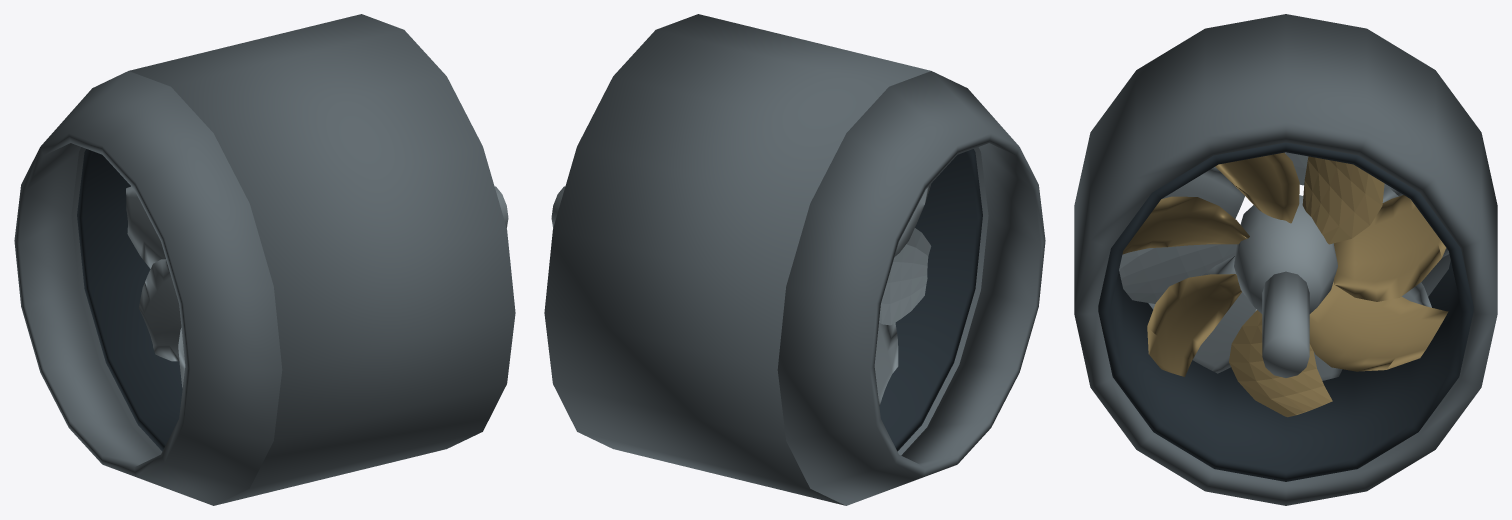
File: RU_PJ_Yasen_LOD2.fbx
3 views of the same model, side by side, from view 1: azimuth 30°, elevation 25°; view 2: azimuth 150°, elevation 25°; view 3: azimuth 270°, elevation 25° (orthographic). The views are drawn at different scales.
Visible parts, largest first — view 1: RU_PJ_Yasen_LOD2_Housing.001, RU_PJ_Yasen_LOD2_Nozzle.001, RU_PJ_Yasen_LOD2_Lining.001, RU_PJ_Yasen_LOD2_Stator_08.001, RU_PJ_Yasen_LOD2_Stator_00.001; view 2: RU_PJ_Yasen_LOD2_Housing.001, RU_PJ_Yasen_LOD2_Nozzle.001, RU_PJ_Yasen_LOD2_Lining.001, RU_PJ_Yasen_LOD2_Stator_05.001, RU_PJ_Yasen_LOD2_Stator_06.001; view 3: RU_PJ_Yasen_LOD2_Housing.001, RU_PJ_Yasen_LOD2_Lining.001, RU_PJ_Yasen_LOD2_Rotor_06.001, RU_PJ_Yasen_LOD2_Rotor_00.001, RU_PJ_Yasen_LOD2_Hub.001, RU_PJ_Yasen_LOD2_Rotor_04.001, RU_PJ_Yasen_LOD2_Rotor_01.001, RU_PJ_Yasen_LOD2_Rotor_05.001, RU_PJ_Yasen_LOD2_Shaft.001, RU_PJ_Yasen_LOD2_Rotor_03.001, RU_PJ_Yasen_LOD2_Stator_05.001, RU_PJ_Yasen_LOD2_Rotor_02.001 (+3 smaller).
Boxes of the visible parts, box(x1,y1,x2,y2) form: RU_PJ_Yasen_LOD2_Housing.001: box(71, 14, 515, 505); RU_PJ_Yasen_LOD2_Nozzle.001: box(14, 71, 282, 505); RU_PJ_Yasen_LOD2_Lining.001: box(77, 149, 182, 451); RU_PJ_Yasen_LOD2_Stator_08.001: box(139, 259, 181, 361); RU_PJ_Yasen_LOD2_Stator_00.001: box(126, 186, 165, 268); RU_PJ_Yasen_LOD2_Housing.001: box(544, 14, 988, 505); RU_PJ_Yasen_LOD2_Nozzle.001: box(777, 71, 1045, 505); RU_PJ_Yasen_LOD2_Lining.001: box(879, 149, 982, 451); RU_PJ_Yasen_LOD2_Stator_05.001: box(879, 228, 931, 325); RU_PJ_Yasen_LOD2_Stator_06.001: box(874, 293, 898, 405); RU_PJ_Yasen_LOD2_Housing.001: box(1074, 14, 1497, 505); RU_PJ_Yasen_LOD2_Lining.001: box(1098, 142, 1473, 481); RU_PJ_Yasen_LOD2_Rotor_06.001: box(1309, 281, 1448, 371); RU_PJ_Yasen_LOD2_Rotor_00.001: box(1334, 195, 1446, 301); RU_PJ_Yasen_LOD2_Hub.001: box(1234, 195, 1337, 313); RU_PJ_Yasen_LOD2_Rotor_04.001: box(1147, 274, 1241, 376); RU_PJ_Yasen_LOD2_Rotor_01.001: box(1302, 156, 1384, 244); RU_PJ_Yasen_LOD2_Rotor_05.001: box(1229, 310, 1332, 417); RU_PJ_Yasen_LOD2_Shaft.001: box(1262, 271, 1309, 377); RU_PJ_Yasen_LOD2_Rotor_03.001: box(1122, 196, 1249, 254); RU_PJ_Yasen_LOD2_Stator_05.001: box(1119, 244, 1236, 303); RU_PJ_Yasen_LOD2_Rotor_02.001: box(1215, 152, 1299, 223).
Bounding box in the file's own units: 603 × 590 × 590.
